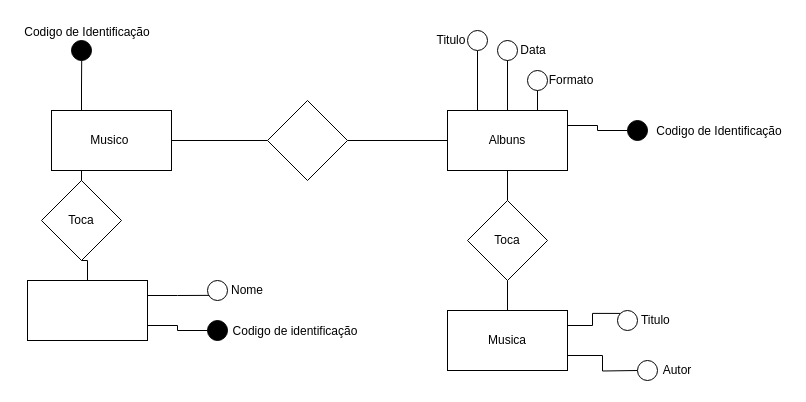
This 806x402 diagram has some shape labels left out. Each missing label, with the centre of its shape:
Instrumento: the point at 87,310
Produz: the point at 307,140
